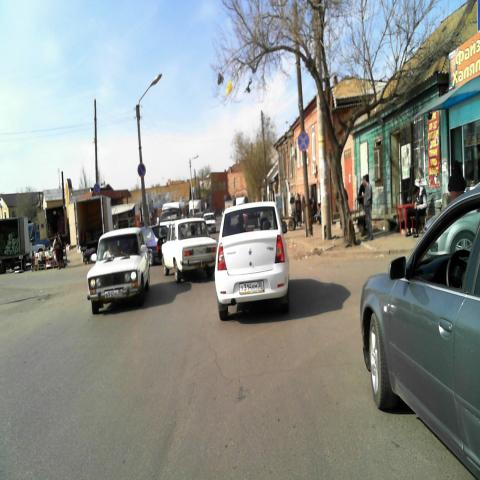3_27: (298, 130, 309, 152)
3_28: (138, 162, 146, 178)
